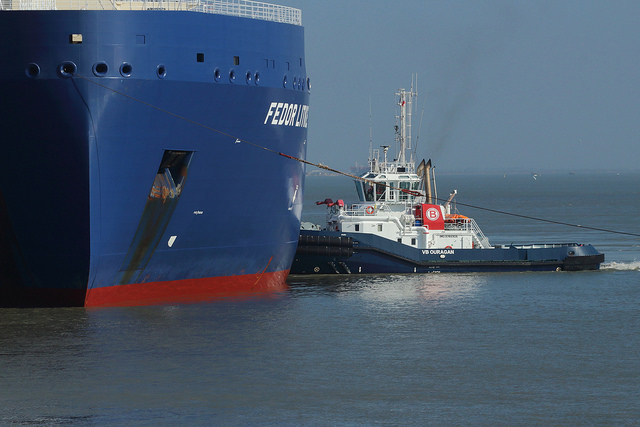tug_boat: (302, 87, 604, 277)
